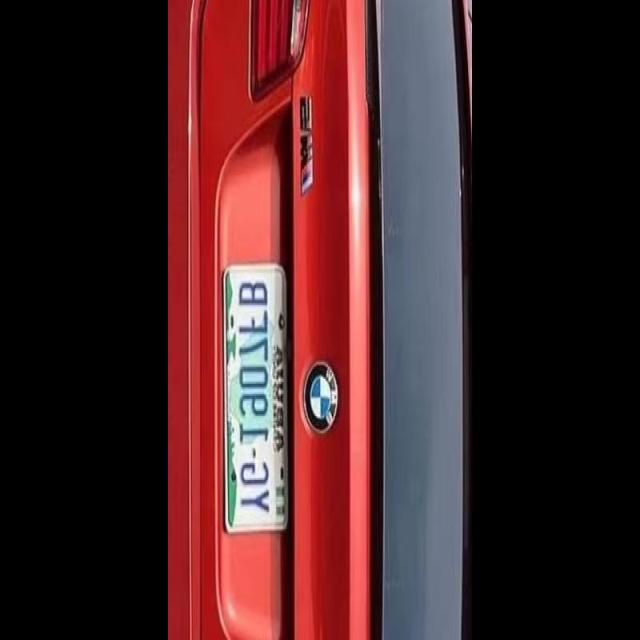Nigerian License Plate - vdataset benjamin-daria: (222, 259, 292, 534)
